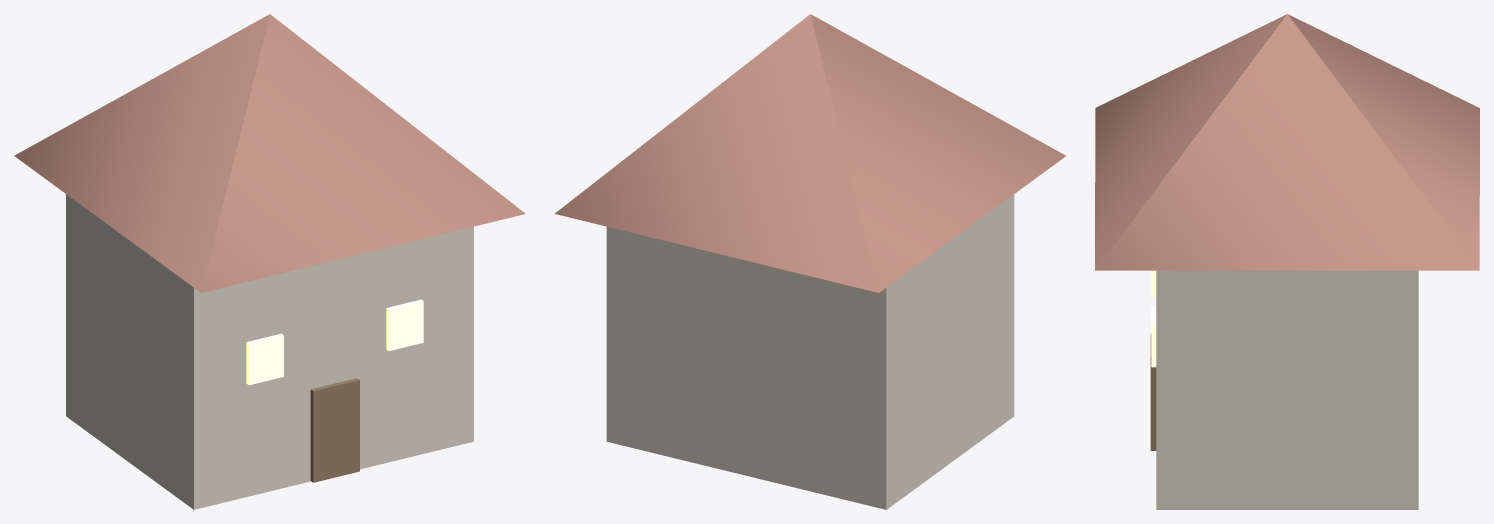
Rendered from house_large.glb.
3 renders of one model, left to right at view 1: azimuth 30°, elevation 25°; view 2: azimuth 150°, elevation 25°; view 3: azimuth 270°, elevation 25°, orthographic. The views are drawn at different scales.
Visible parts, largest first — view 1: house_large; view 2: house_large; view 3: house_large.
Boxes of the visible parts, left/top/right/bottom form: house_large: left=14, top=14, right=525, bottom=509; house_large: left=554, top=14, right=1065, bottom=509; house_large: left=1095, top=14, right=1479, bottom=509.
Bounding box in the file's own units: 2.78 × 3.4 × 2.78.
